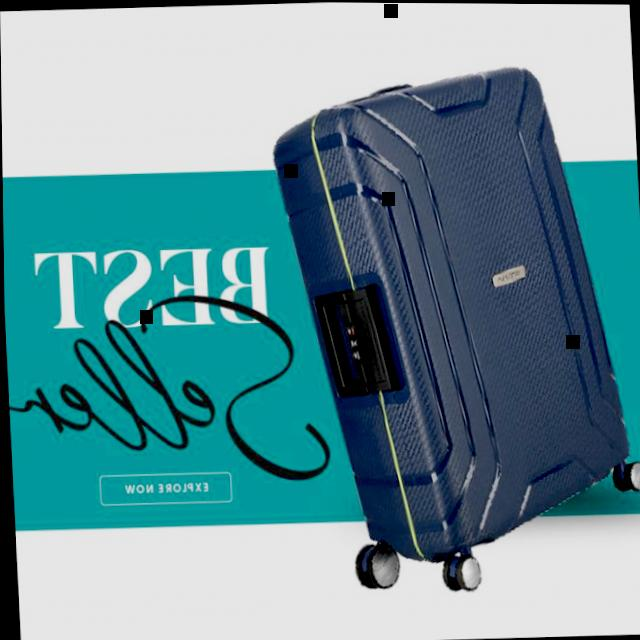luggage: (265, 56, 636, 571)
